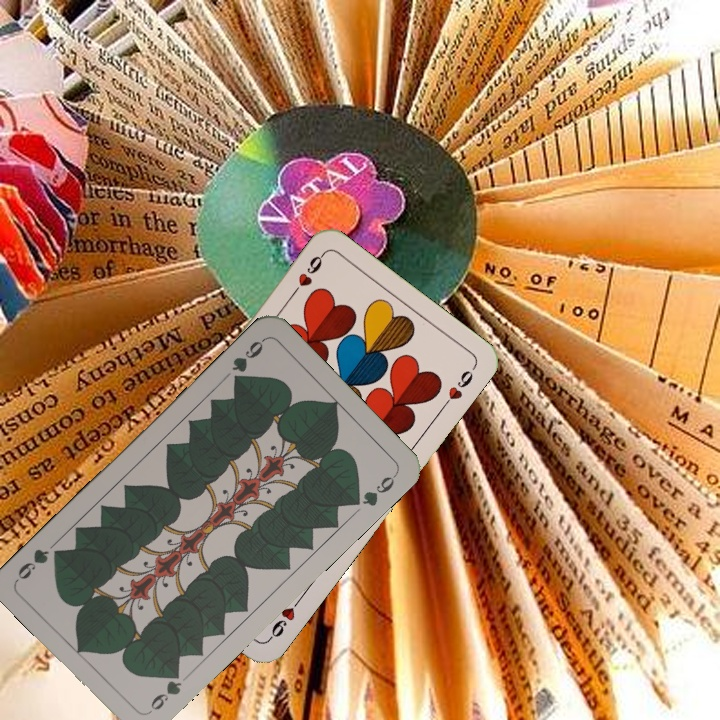G9: (227, 334, 268, 387), (144, 665, 184, 717)
H9: (286, 249, 327, 300), (263, 594, 304, 645)
